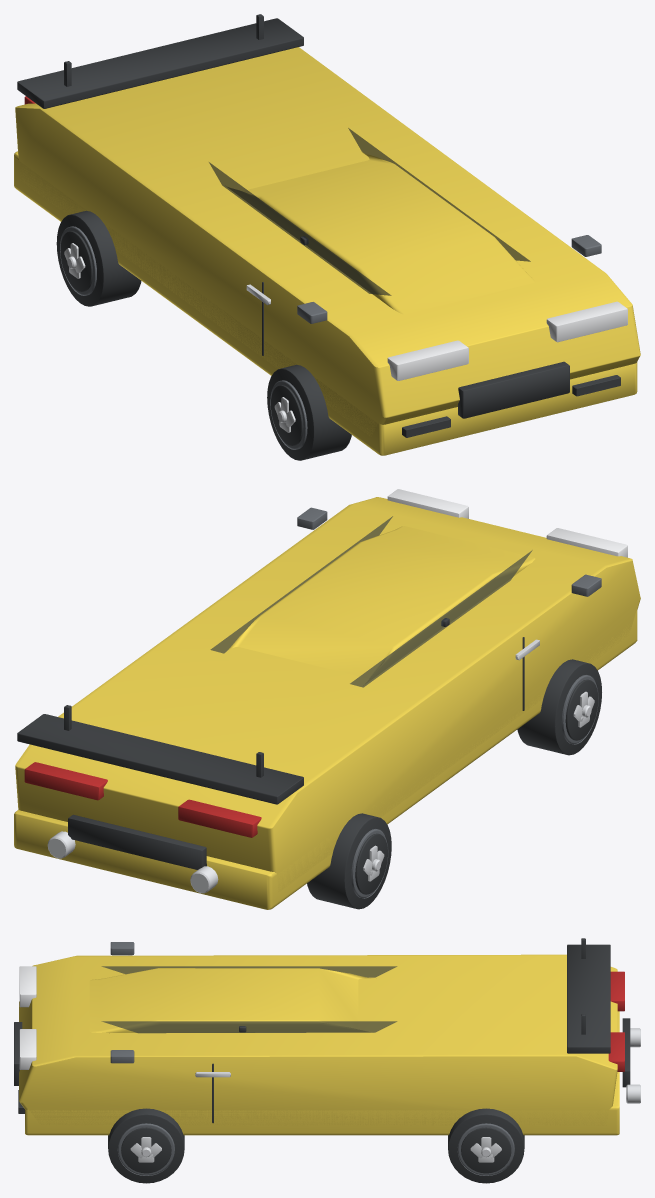
Rendered from solaris-v12.glb.
3 renders of one model, top to bottom at view 1: azimuth 30°, elevation 25°; view 2: azimuth 150°, elevation 25°; view 3: azimuth 270°, elevation 25°, orthographic. The views are drawn at different scales.
Visible parts, largest first — view 1: paint, trim, head, glass, accent, rim; view 2: paint, trim, tail, glass, rim, head, accent; view 3: paint, trim, glass, accent, rim, head, tail.
Boxes of the visible parts, x1,y1,x2,y2 form: paint: (14, 47, 640, 455); trim: (17, 14, 620, 460); head: (387, 301, 627, 380); glass: (209, 128, 530, 295); accent: (60, 226, 601, 449); rim: (64, 243, 295, 432); paint: (14, 497, 640, 909); trim: (17, 618, 601, 909); tail: (24, 762, 261, 837); glass: (210, 516, 532, 687); rim: (47, 639, 594, 893); head: (387, 489, 627, 557); accent: (297, 507, 601, 898); paint: (19, 954, 619, 1135); trim: (14, 938, 630, 1183); glass: (102, 966, 396, 1033); accent: (110, 942, 514, 1175); rim: (130, 1028, 640, 1162); head: (19, 966, 36, 1069); tail: (608, 971, 624, 1071).
Size of the model in its own units: 2.18 by 1.25 by 4.75.
